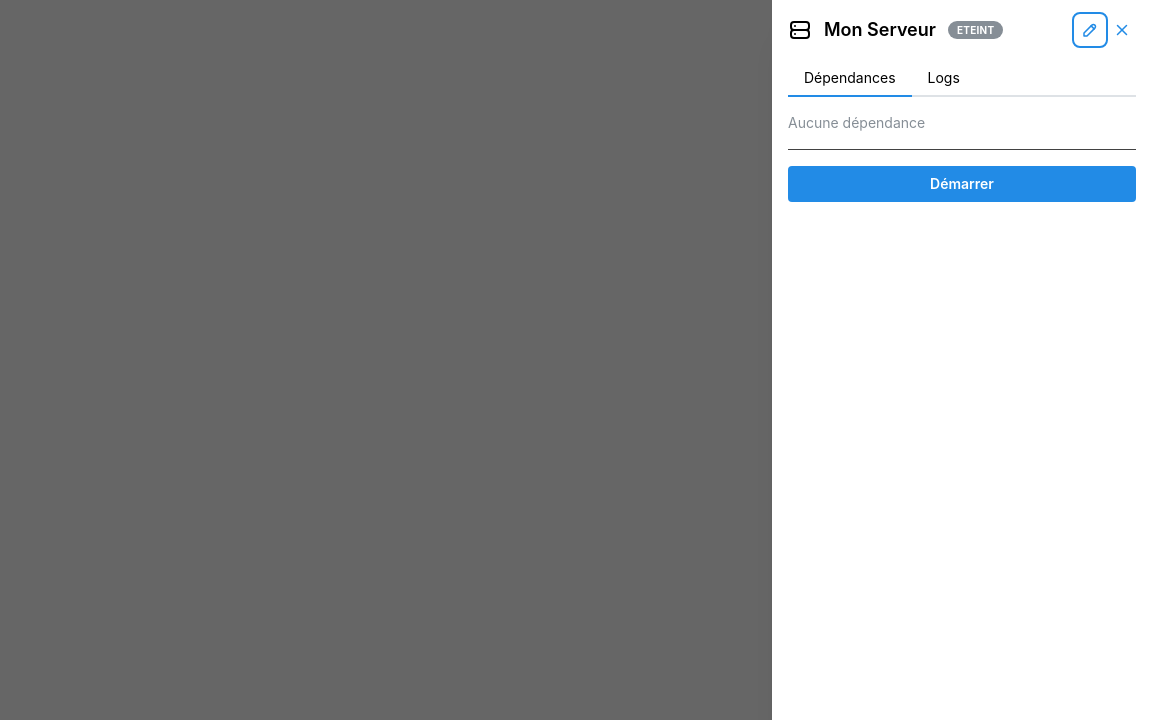
Test: ServiceDetailPanel › should render logs content in the logs tab
Click the tab "Logs".
click(944, 79)  # box [912,61,976,97]
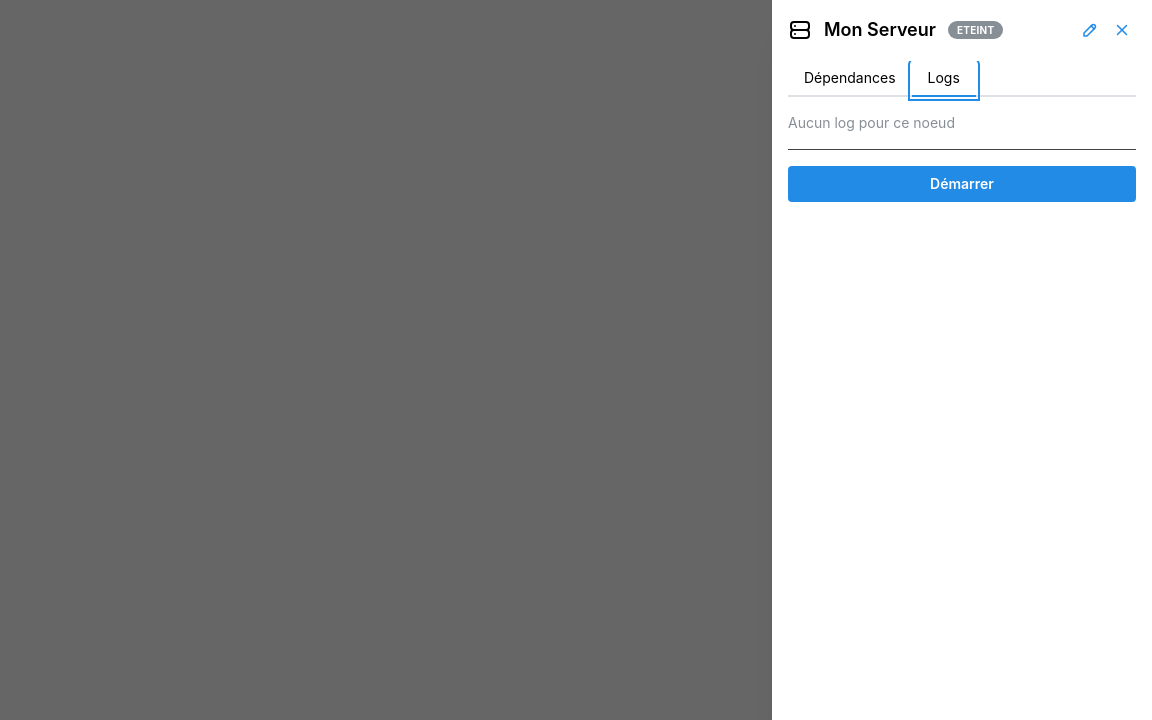
Expected: the text "Aucun log pour ce noeud" is shown, [788,114,955,131]
